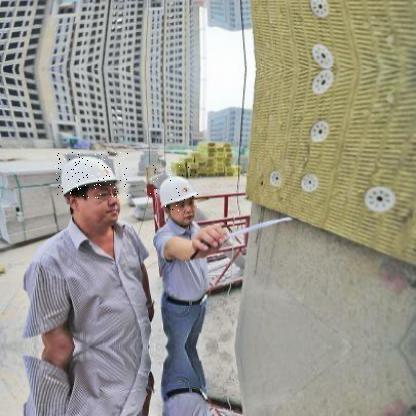safetyhelmet: (55, 152, 129, 200), (150, 164, 200, 212)
